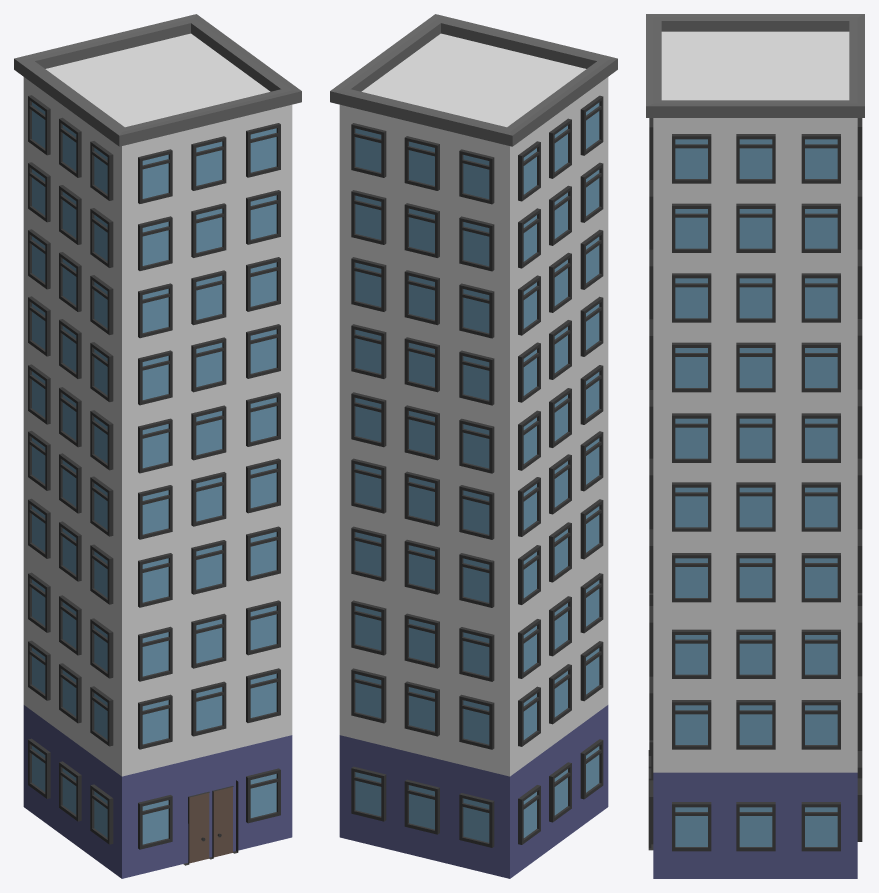
Rendered from building2.fbx.
3 renders of one model, left to right at view 1: azimuth 30°, elevation 25°; view 2: azimuth 150°, elevation 25°; view 3: azimuth 270°, elevation 25°, orthographic. The views are drawn at different scales.
Parts seen in each view (by area): view 1: building2; view 2: building2; view 3: building2.
Part boxes in pixels (<box>): building2: <box>14,14,301,878</box>; building2: <box>330,14,617,878</box>; building2: <box>646,14,864,878</box>.
Size of the model in its own units: 355 by 1389 by 355.
